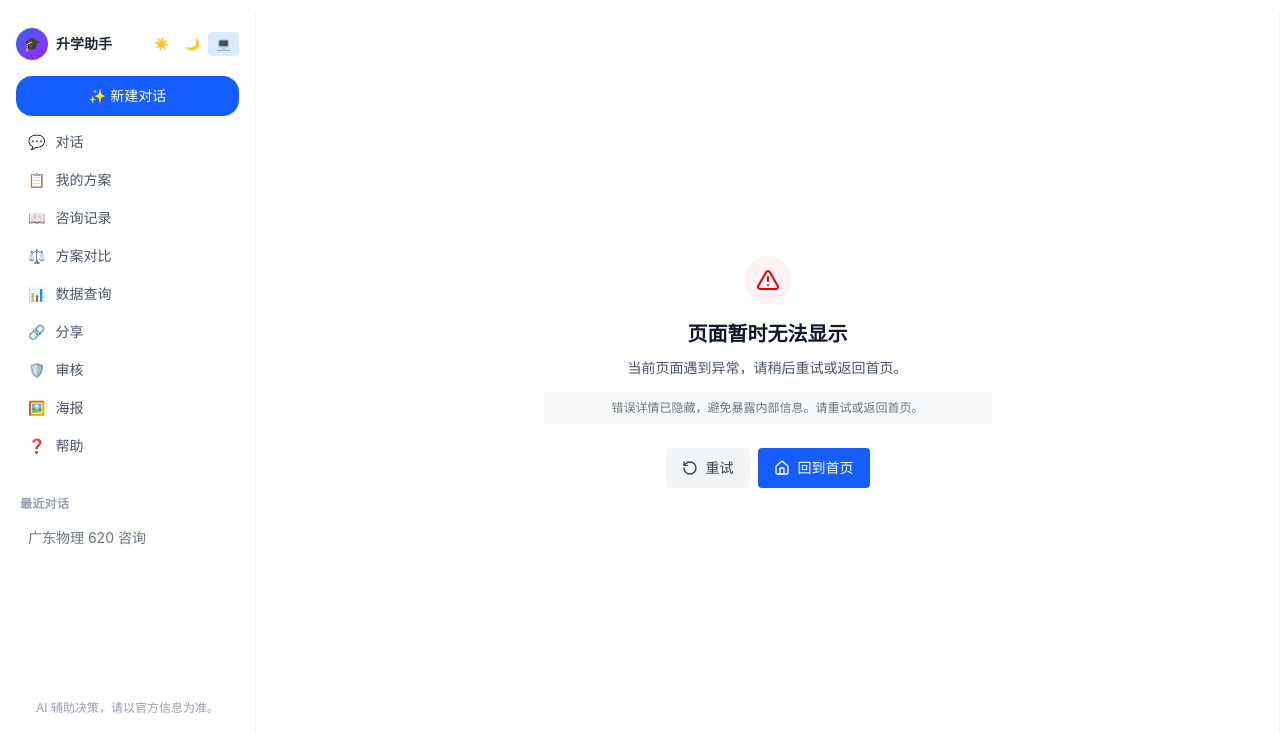
Test: AppLayout error boundary › renders a fallback page for route crashes and recovers on navigation
Check: the heading "页面暂时无法显示" is shown, box [688, 322, 848, 346]
Check: the text "错误详情已隐藏，避免暴露内部信息。请重试或返回首页。" is shown, box [544, 392, 992, 424]
Click the link "回到首页".
click(814, 468)  # box [758, 448, 870, 488]
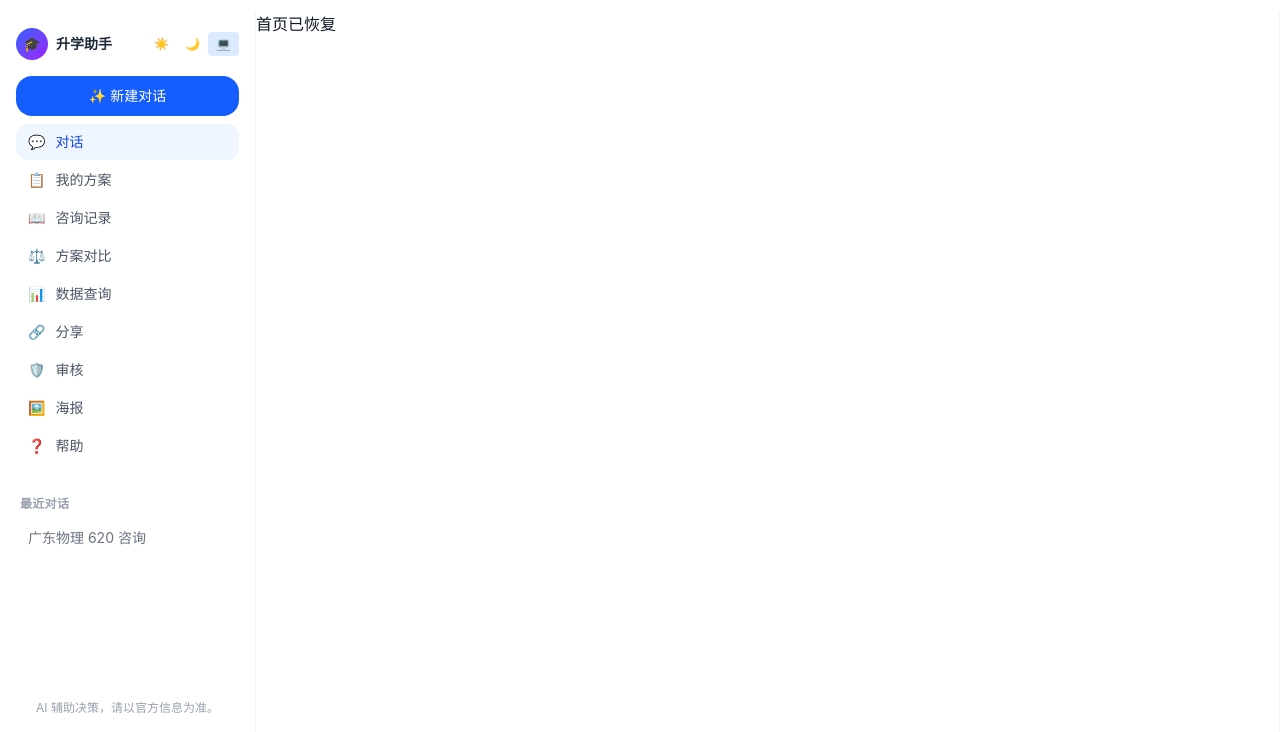
Check: the text "首页已恢复" is shown, box [256, 14, 336, 34]
